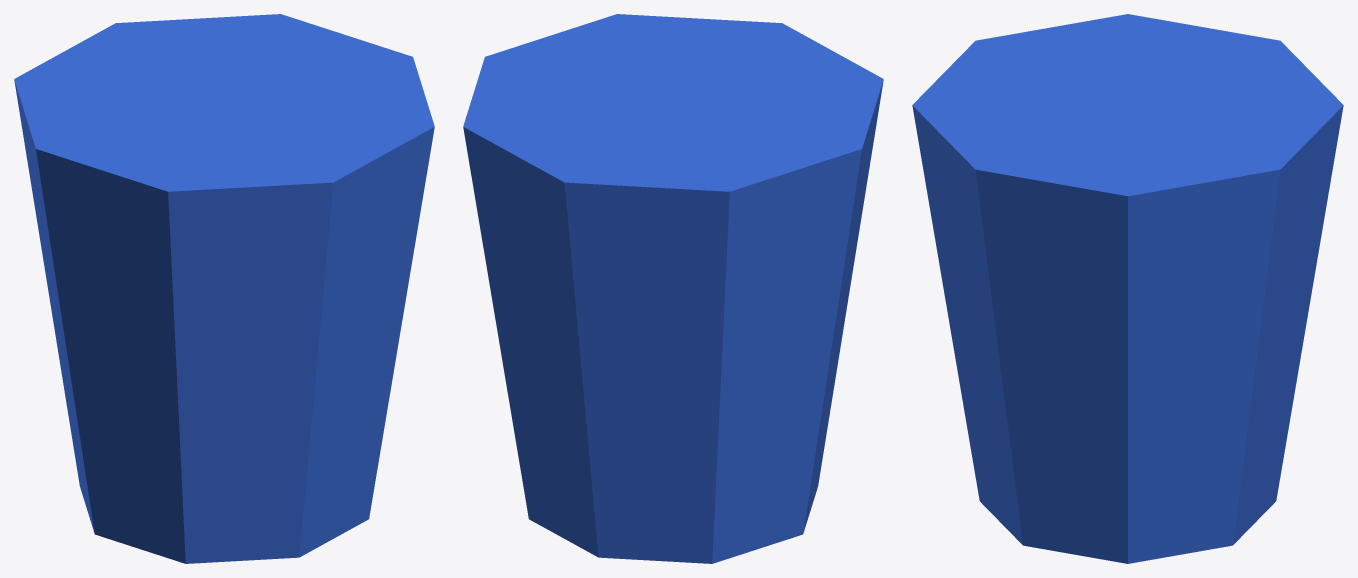
3 renders of one model, left to right at view 1: azimuth 30°, elevation 25°; view 2: azimuth 150°, elevation 25°; view 3: azimuth 270°, elevation 25°, orthographic.
Visible parts, largest first — view 1: Cylinder.001; view 2: Cylinder.001; view 3: Cylinder.001.
Boxes of the visible parts, x1,y1,x2,y2 form: Cylinder.001: (14,14,434,563); Cylinder.001: (463,14,883,563); Cylinder.001: (912,14,1343,563).
Size of the model in its own units: 270 by 274 by 270.
